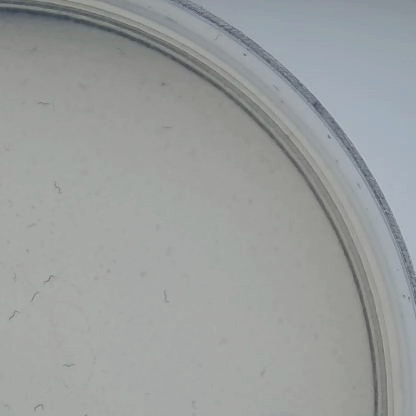worm: (36, 264, 68, 292), (56, 351, 90, 372), (29, 394, 55, 416), (71, 395, 98, 416), (154, 288, 178, 311), (44, 176, 70, 196), (1, 302, 26, 322), (180, 396, 204, 416), (18, 216, 40, 237), (23, 287, 43, 307), (29, 95, 54, 111)
